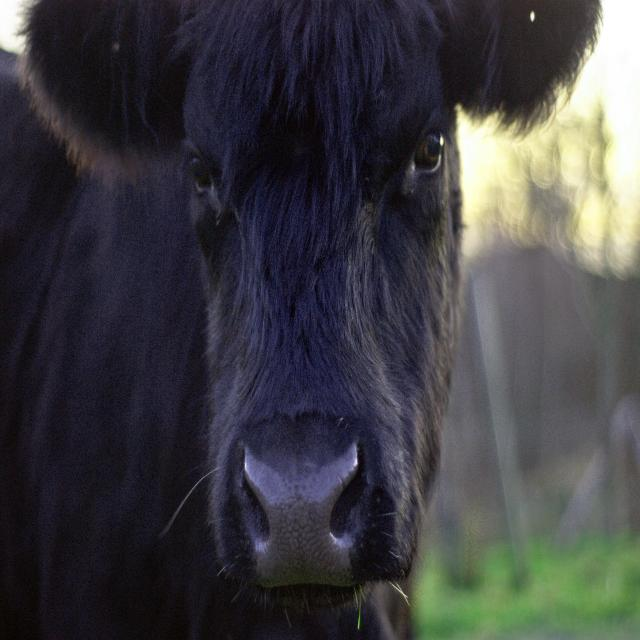cow: (0, 2, 600, 639)
